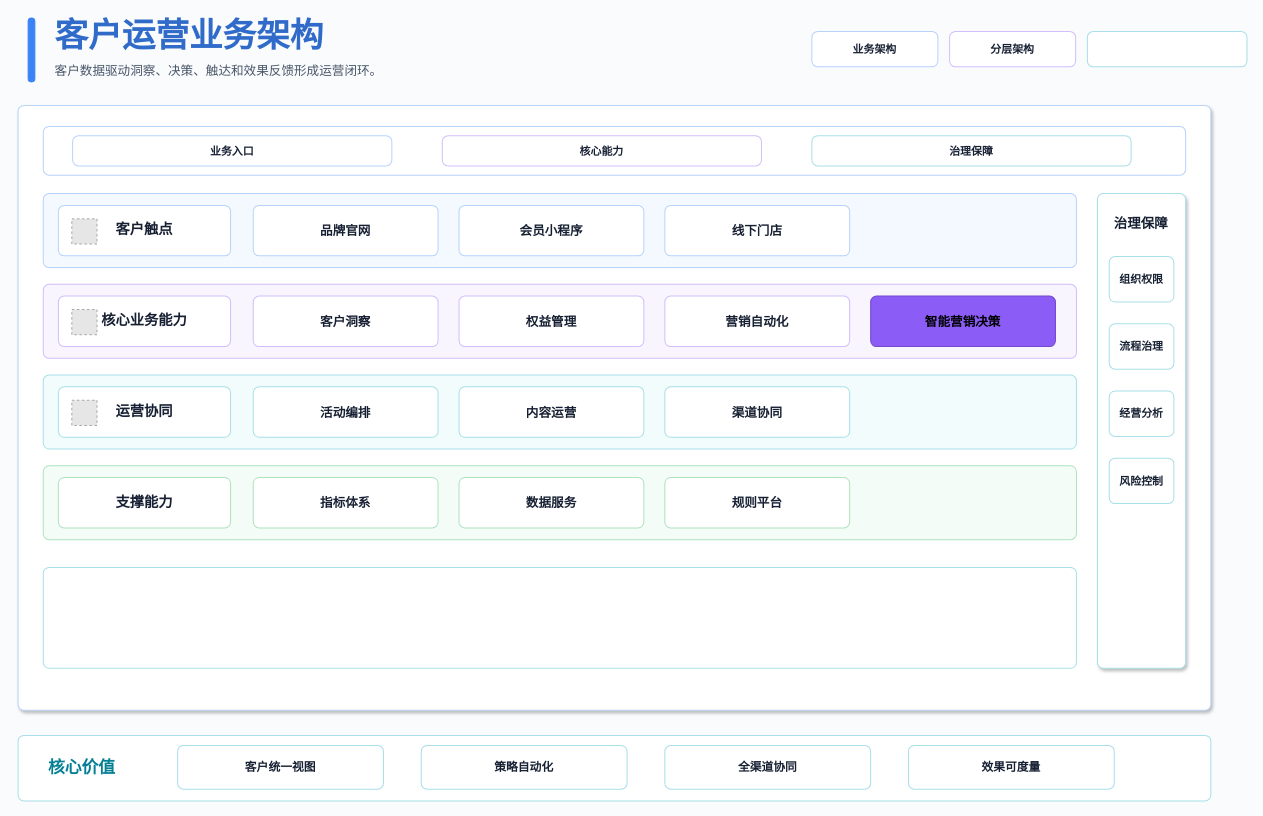
Some shapes in this 1263 by 816 pixel diagram are drawn without their labels. Grey dashed boxes stand in for pictures. Each missing label, with the centre of its shape:
"Vibrant" goes at point (1166, 49).
"客户数据驱动洞察、决策、触达和效果反馈形成运营闭环。 架构能力形成统一承载、弹性扩展与闭环治理" goes at point (559, 617).
